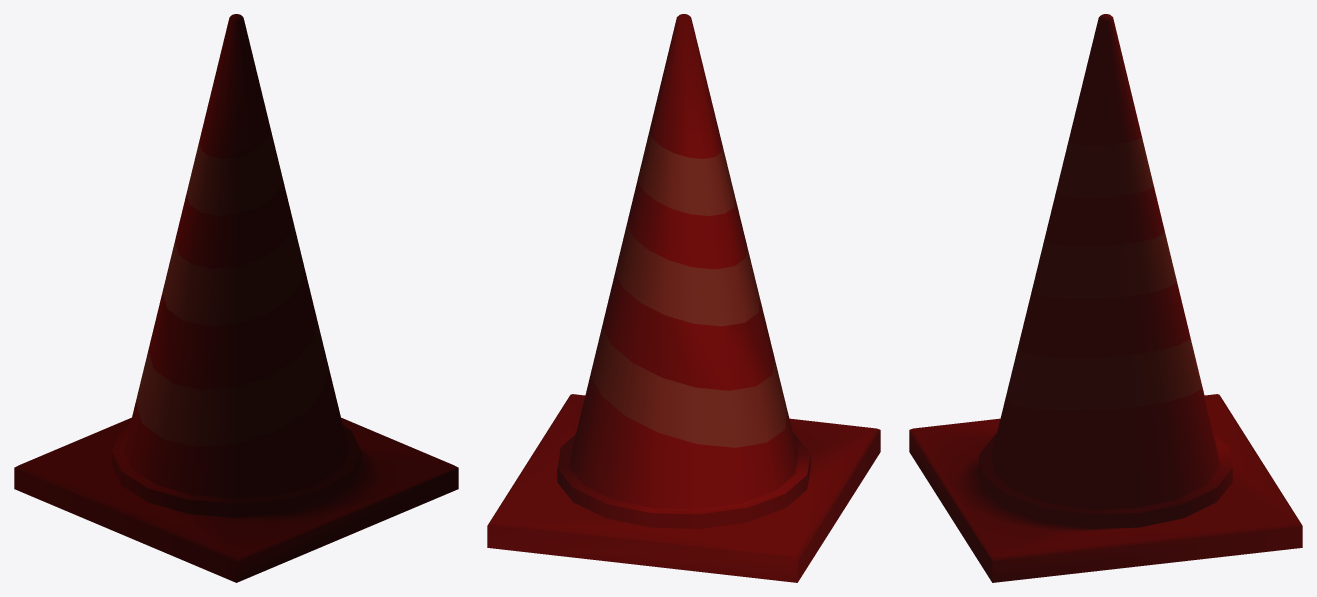
The picture shows the model from 3 angles, left to right: view 1: azimuth 30°, elevation 25°; view 2: azimuth 150°, elevation 25°; view 3: azimuth 270°, elevation 25°; orthographic projection. The views are drawn at different scales.
Parts seen in each view (by area): view 1: Joint_0_Object_0; view 2: Joint_0_Object_0; view 3: Joint_0_Object_0.
Part boxes in pixels (bbox=[...]): Joint_0_Object_0: bbox=[14, 14, 458, 582]; Joint_0_Object_0: bbox=[487, 14, 880, 582]; Joint_0_Object_0: bbox=[909, 14, 1302, 582].
Bounding box in the file's own units: 735 × 1000 × 735.
